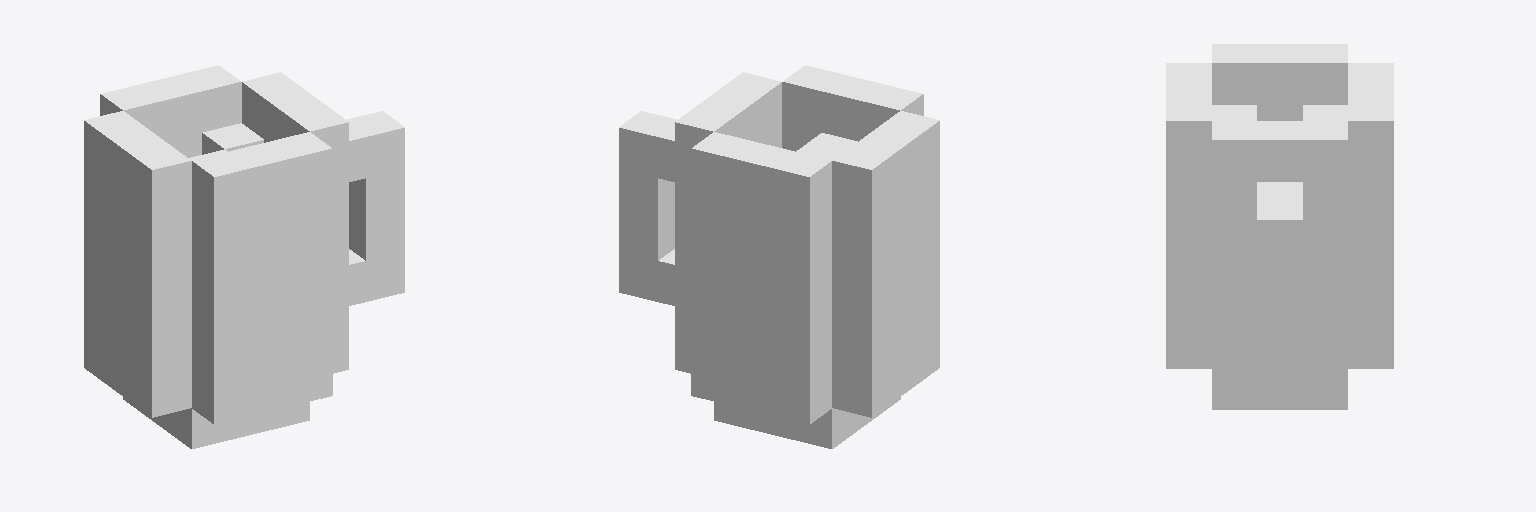
Rendered from prop_mug.obj.
The picture shows the model from 3 angles: view 1: azimuth 30°, elevation 25°; view 2: azimuth 150°, elevation 25°; view 3: azimuth 270°, elevation 25°; orthographic projection.
Parts seen in each view (by area): view 1: object 1; view 2: object 1; view 3: object 1.
Boxes of the visible parts, x1=… form: object 1: x1=84, y1=65, x2=404, y2=448; object 1: x1=619, y1=65, x2=939, y2=448; object 1: x1=1166, y1=44, x2=1393, y2=409.
Size of the model in its own units: 0.7 by 0.7 by 0.5.